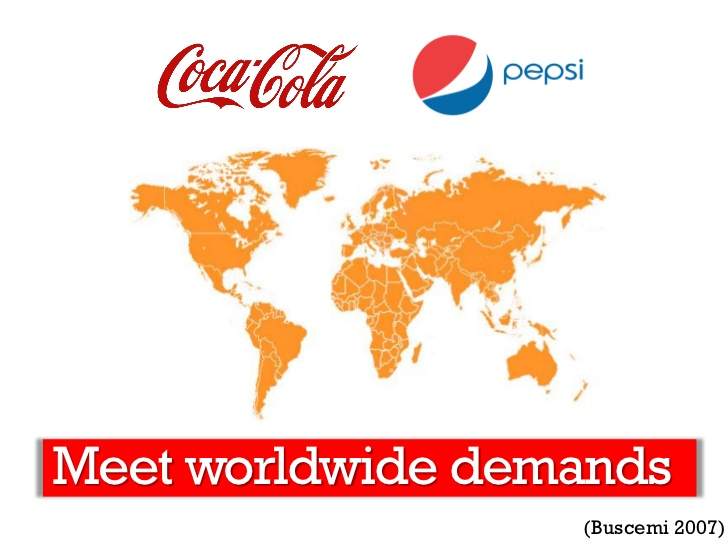pepsi: (410, 33, 493, 113)
